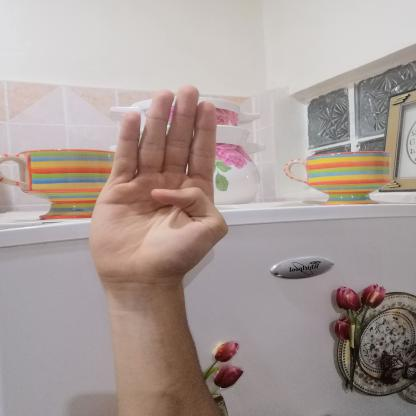KAAF: (70, 74, 240, 298)
